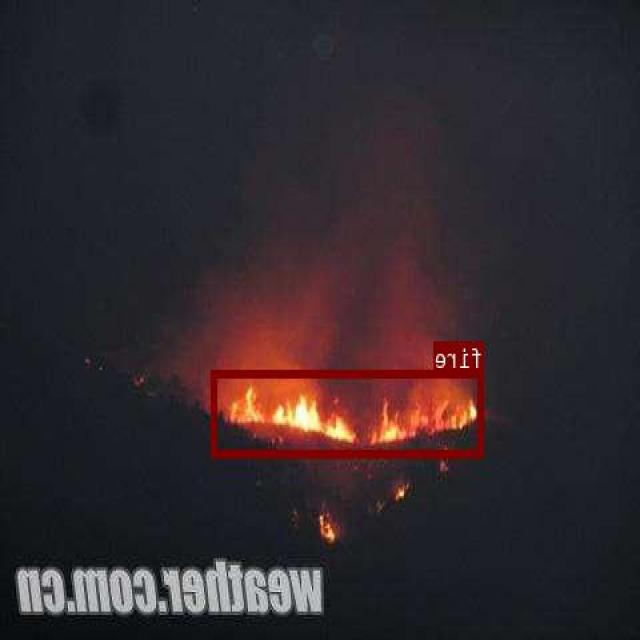fire: (213, 369, 485, 456)
